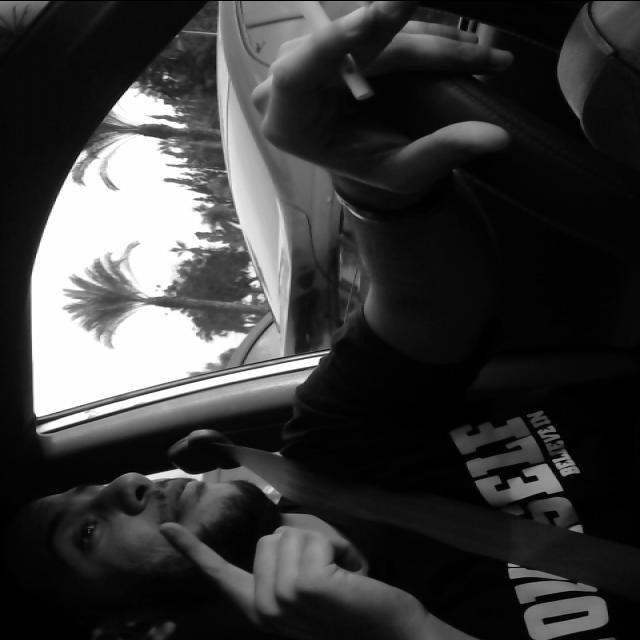smoking: (292, 0, 378, 103)
